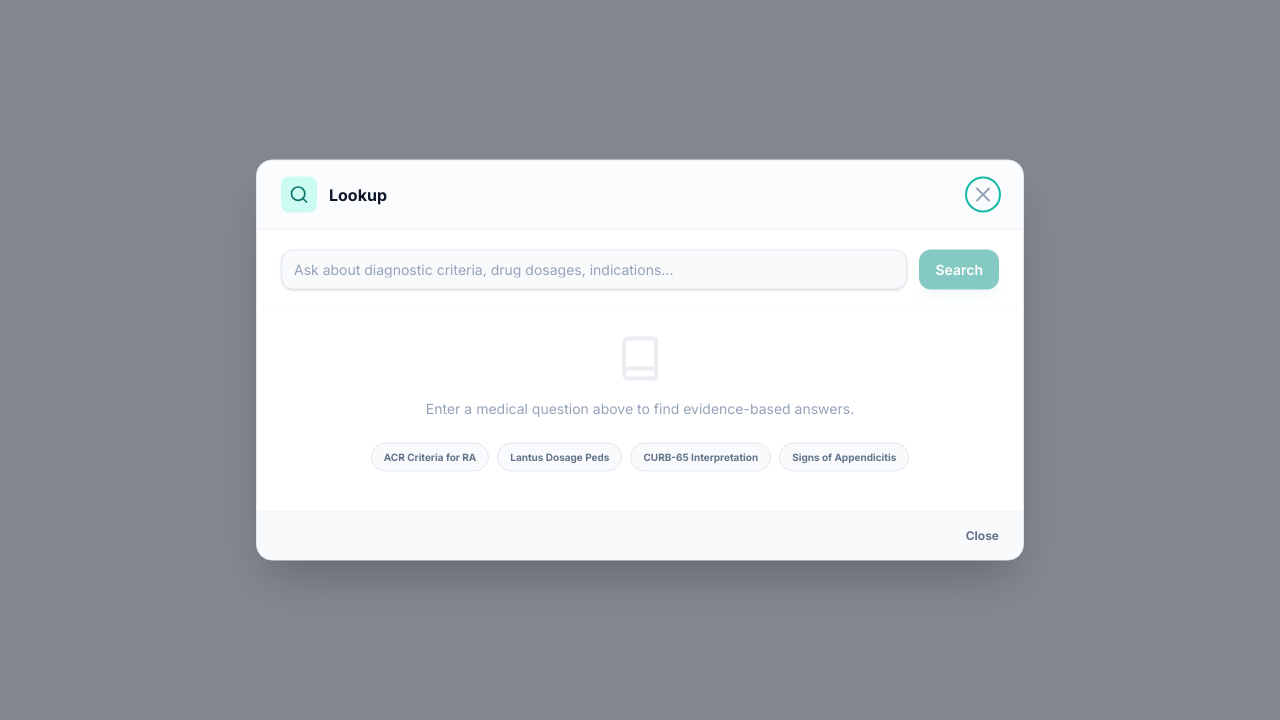
LookupModal › shows a shared recoverable error and retries the same query
Type "ACR Criteria for RA" into the field at (594, 270), box left=281, top=250, right=908, bottom=290
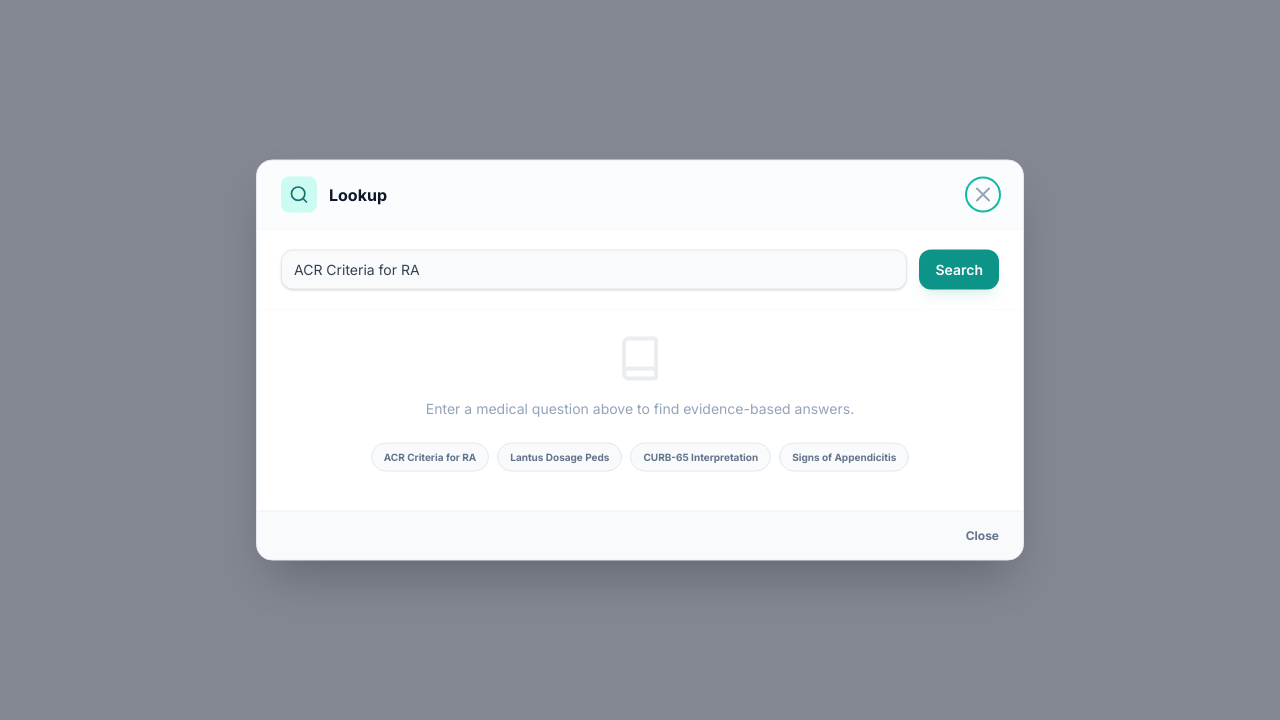
Click the button "Search" at (959, 270), box left=920, top=250, right=999, bottom=290
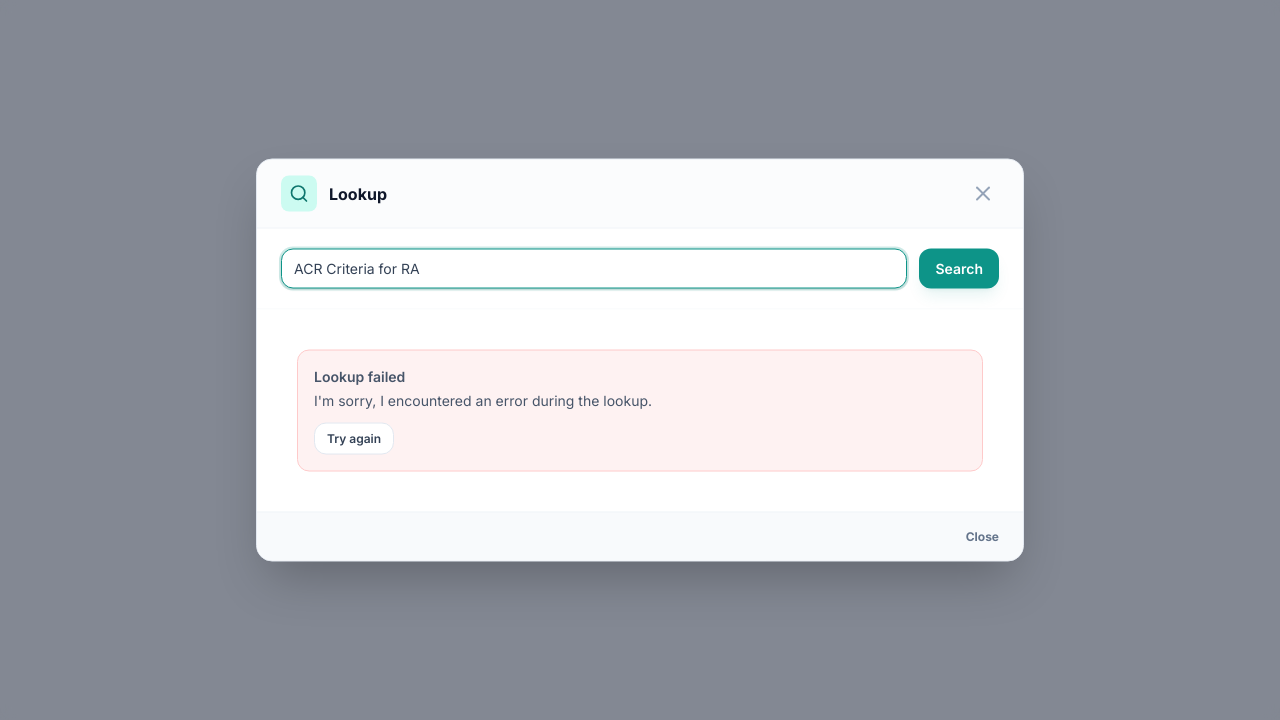
Check: the message shows "Lookup failed", box left=314, top=368, right=405, bottom=384
Check: the message shows "I'm sorry, I encountered an error during the lookup.", box left=314, top=392, right=652, bottom=408
Click the button "Try again" at (354, 438), box left=314, top=422, right=394, bottom=454
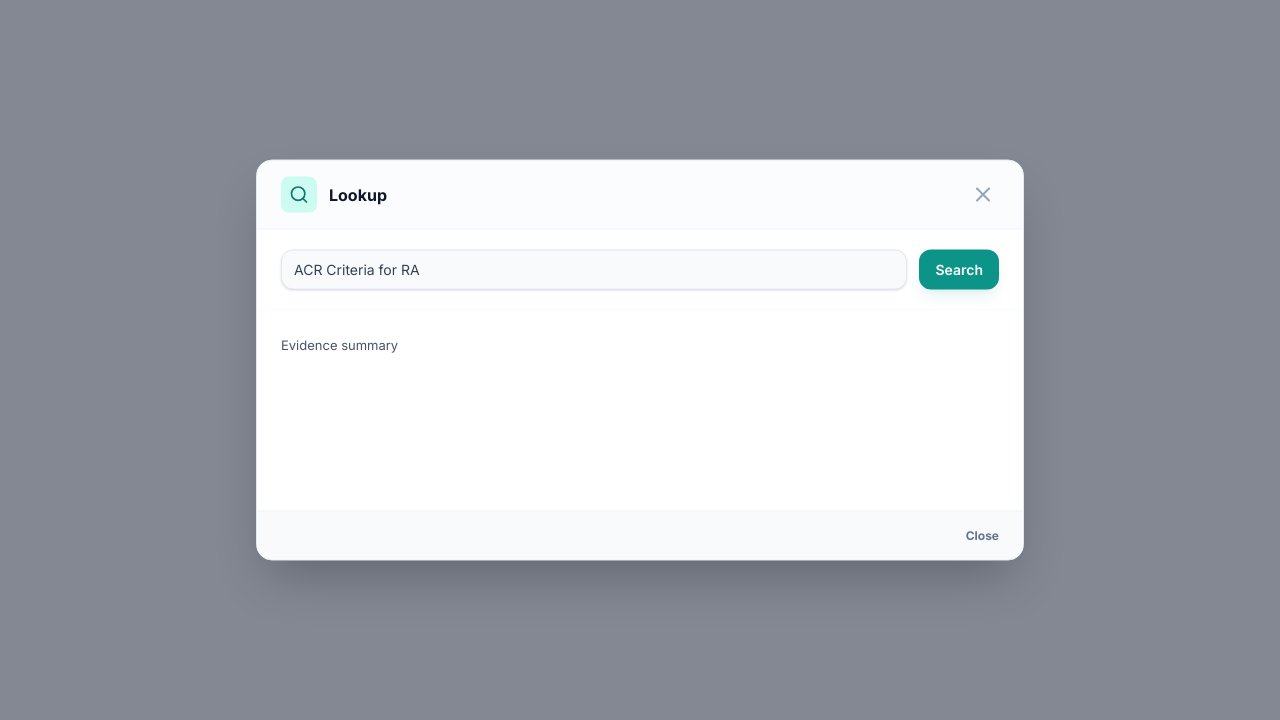
Check: the text "Evidence summary" is shown, box left=281, top=336, right=398, bottom=352
